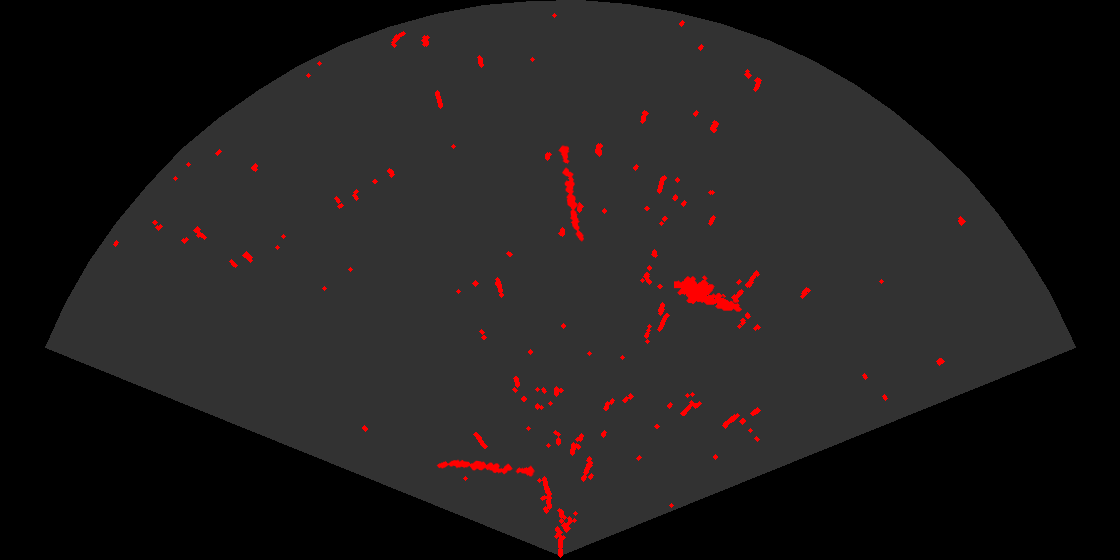chain: (557, 143, 586, 243), (435, 458, 537, 478)
frogman: (674, 274, 742, 313)
